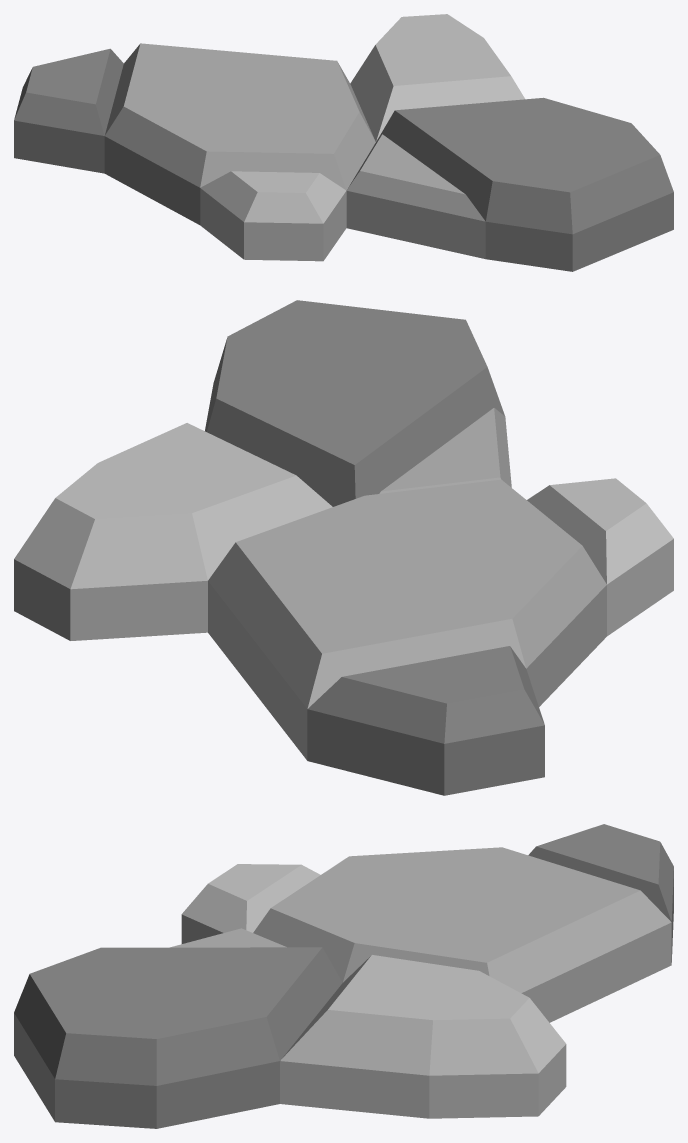
The model's file is Rock_Type4_01.glb.
The picture shows the model from 3 angles, top to bottom: view 1: azimuth 30°, elevation 25°; view 2: azimuth 150°, elevation 25°; view 3: azimuth 270°, elevation 25°; orthographic projection. The views are drawn at different scales.
Parts seen in each view (by area): view 1: Rock Type4 01 mesh; view 2: Rock Type4 01 mesh; view 3: Rock Type4 01 mesh.
Part boxes in pixels (x1,y1,x2,y2): Rock Type4 01 mesh: [14, 14, 673, 271]; Rock Type4 01 mesh: [14, 300, 673, 795]; Rock Type4 01 mesh: [14, 824, 673, 1128].
Size of the model in its own units: 1.86 by 0.3156 by 2.14.
1 material, 1 textured.
